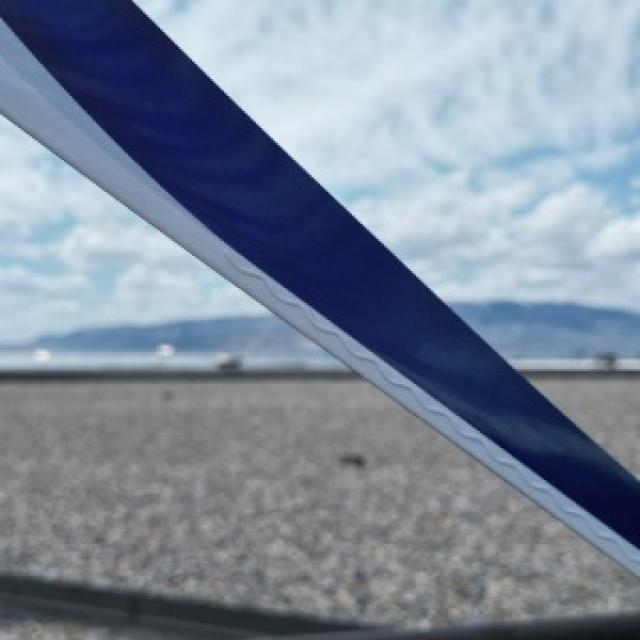healthy: (0, 580, 292, 634)
